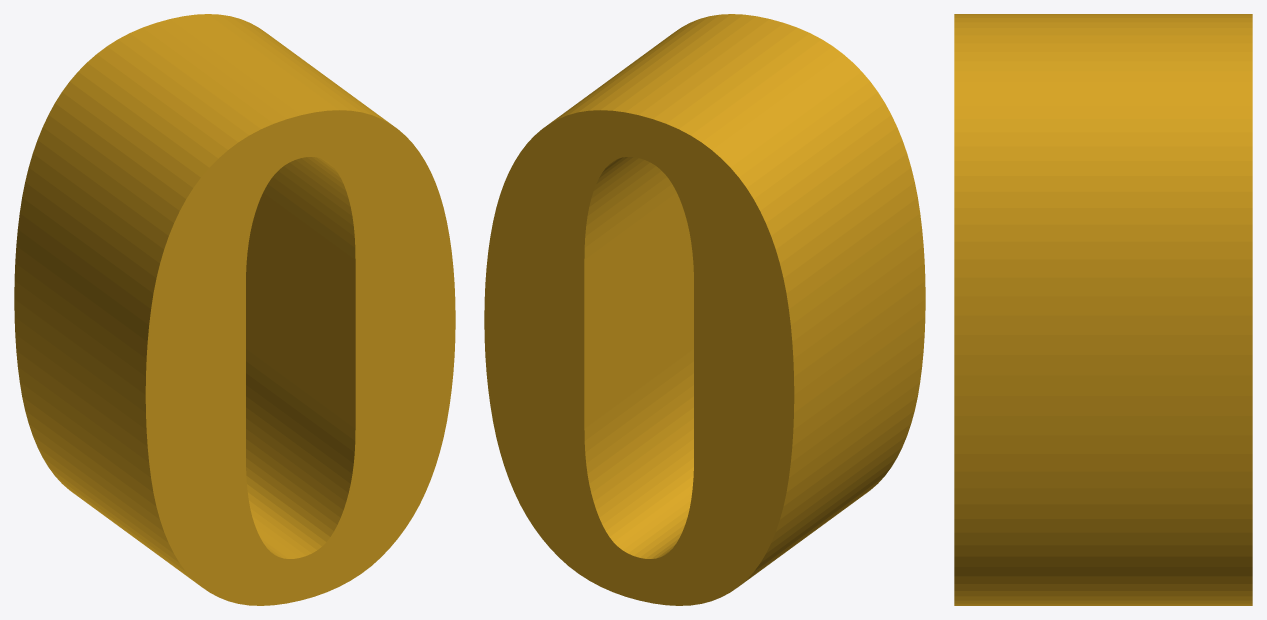
File: tinker.obj
The picture shows the model from 3 angles, left to right: view 1: azimuth 30°, elevation 25°; view 2: azimuth 150°, elevation 25°; view 3: azimuth 270°, elevation 25°; orthographic projection. The views are drawn at different scales.
Visible parts, largest first — view 1: obj_0; view 2: obj_0; view 3: obj_0.
Part boxes in pixels (x1,y1,x2,y2): obj_0: (14,14,455,605); obj_0: (484,14,925,605); obj_0: (954,14,1252,605).
Bounding box in the file's own units: 13.62 × 20.38 × 10.
